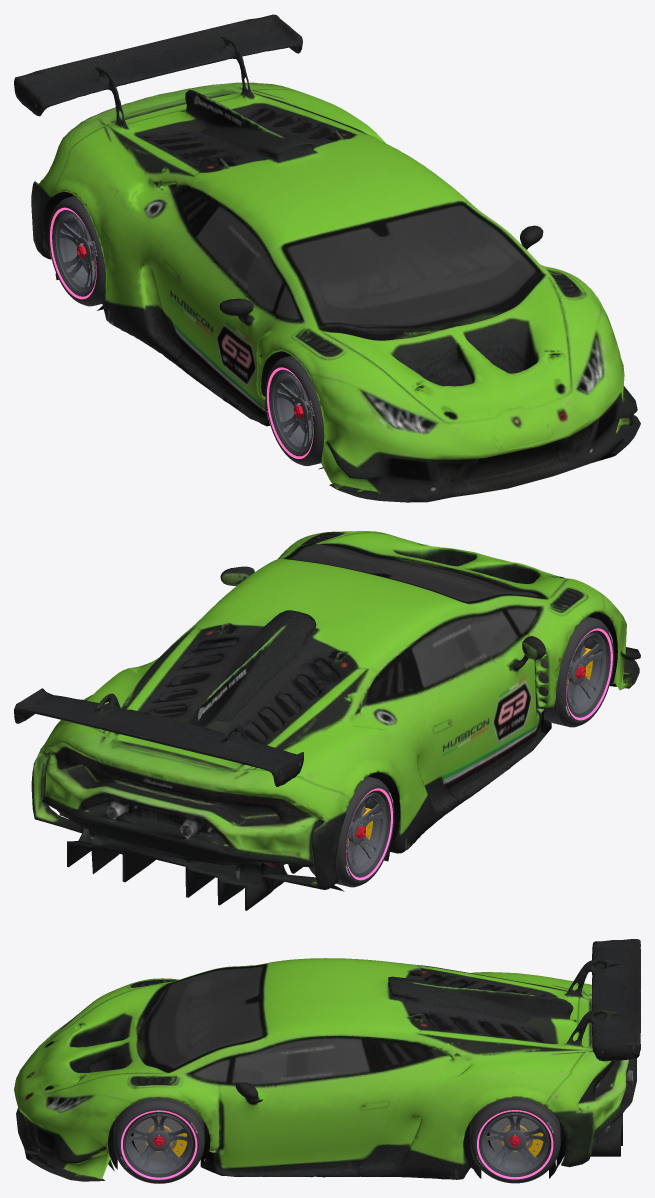
Rendered from lambo_huracan_full.glb.
3 renders of one model, top to bottom at view 1: azimuth 30°, elevation 25°; view 2: azimuth 150°, elevation 25°; view 3: azimuth 270°, elevation 25°, orthographic. The views are drawn at different scales.
Visible parts, largest first — view 1: LamboHuracan_Body, RL_GT3_AlloyRim, FL_GT3_AlloyRim, FL_GT3_TireRubber, RL_GT3_TireRubber; view 2: LamboHuracan_Body, FL_GT3_TireRubber, FL_GT3_AlloyRim, RL_GT3_AlloyRim, RL_GT3_TireRubber; view 3: LamboHuracan_Body, FR_GT3_TireRubber, RR_GT3_TireRubber, FR_GT3_AlloyRim, RR_GT3_AlloyRim, FR_GT3_BrakeDisc, RR_GT3_BrakeDisc, FR_GT3_SidewallStripe, RR_GT3_SidewallStripe.
Part boxes in pixels (x1=…): LamboHuracan_Body: x1=14, y1=14, x2=640, y2=502; RL_GT3_AlloyRim: x1=55, y1=212, x2=96, y2=292; FL_GT3_AlloyRim: x1=272, y1=372, x2=313, y2=452; FL_GT3_TireRubber: x1=265, y1=355, x2=324, y2=465; RL_GT3_TireRubber: x1=48, y1=196, x2=105, y2=306; LamboHuracan_Body: x1=14, y1=531, x2=640, y2=910; FL_GT3_TireRubber: x1=537, y1=616, x2=614, y2=727; FL_GT3_AlloyRim: x1=566, y1=633, x2=607, y2=713; RL_GT3_AlloyRim: x1=346, y1=793, x2=387, y2=873; RL_GT3_TireRubber: x1=309, y1=776, x2=394, y2=887; LamboHuracan_Body: x1=14, y1=939, x2=640, y2=1181; FR_GT3_TireRubber: x1=113, y1=1097, x2=204, y2=1183; RR_GT3_TireRubber: x1=469, y1=1097, x2=560, y2=1183; FR_GT3_AlloyRim: x1=125, y1=1113, x2=192, y2=1174; RR_GT3_AlloyRim: x1=481, y1=1113, x2=548, y2=1173; FR_GT3_BrakeDisc: x1=133, y1=1116, x2=182, y2=1160; RR_GT3_BrakeDisc: x1=489, y1=1116, x2=538, y2=1160; FR_GT3_SidewallStripe: x1=121, y1=1110, x2=197, y2=1179; RR_GT3_SidewallStripe: x1=477, y1=1110, x2=553, y2=1179.
Bounding box in the file's own units: 2.19 × 1.17 × 4.54.
11 materials, 1 textured.
